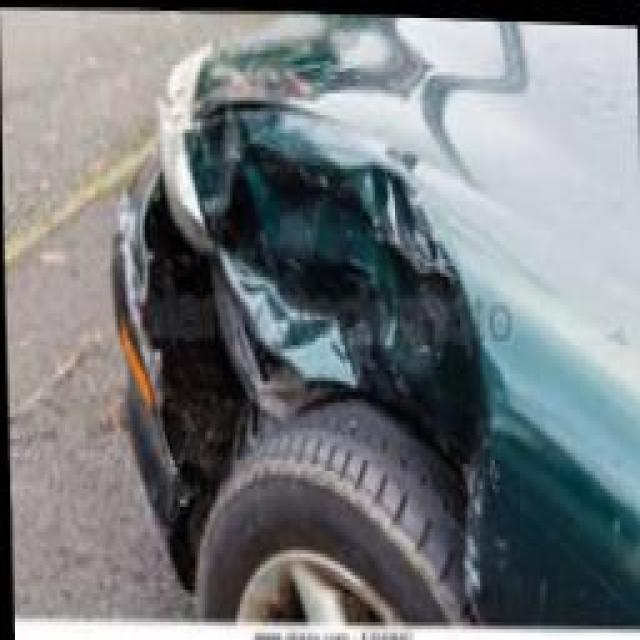Bumper: (102, 157, 257, 567)
Fender: (182, 123, 559, 605)
